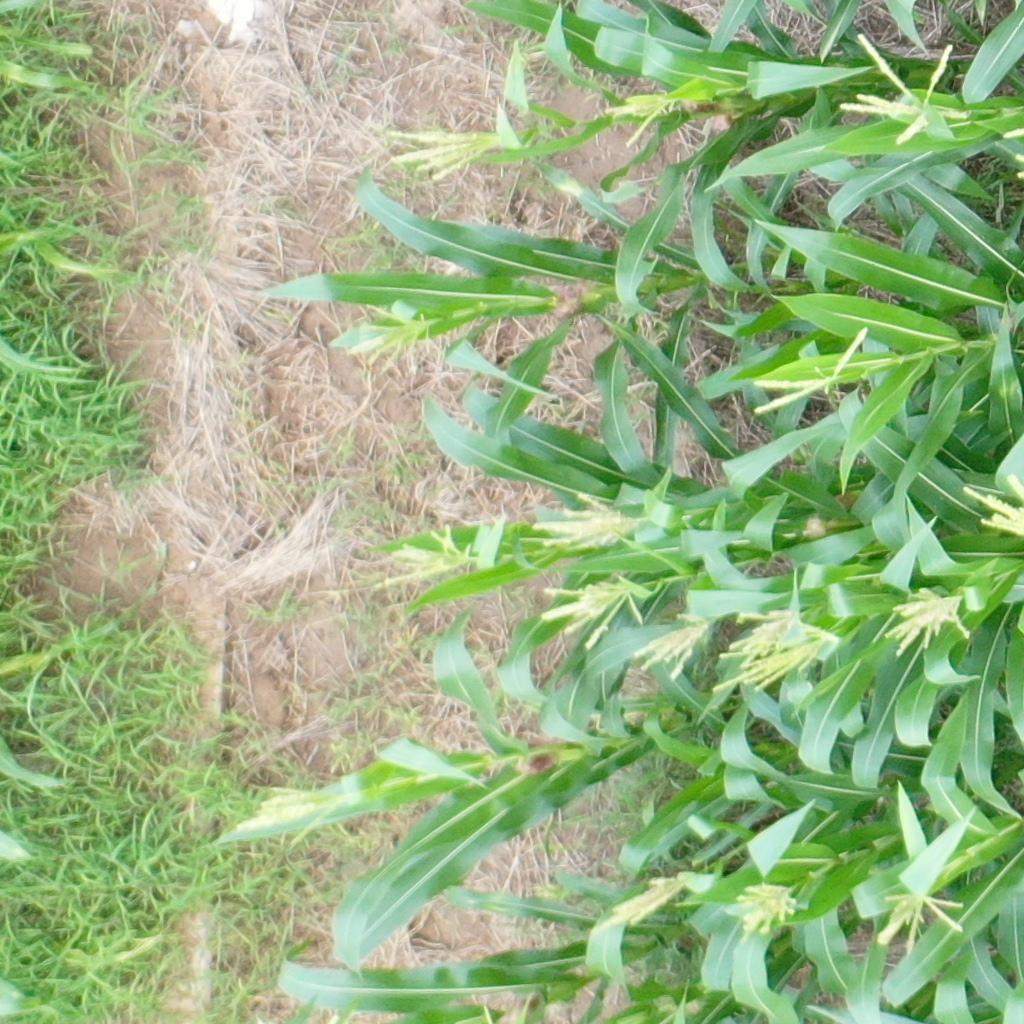Tassel: (833, 25, 971, 144), (750, 327, 872, 420), (228, 780, 355, 851), (534, 573, 653, 647), (714, 632, 839, 694), (522, 489, 649, 549), (870, 884, 970, 956), (339, 299, 435, 373), (386, 123, 500, 185), (376, 523, 477, 590), (633, 609, 721, 681), (594, 872, 693, 935), (883, 589, 972, 657), (955, 465, 1024, 541), (725, 602, 803, 665), (599, 89, 677, 146), (733, 877, 801, 937)
